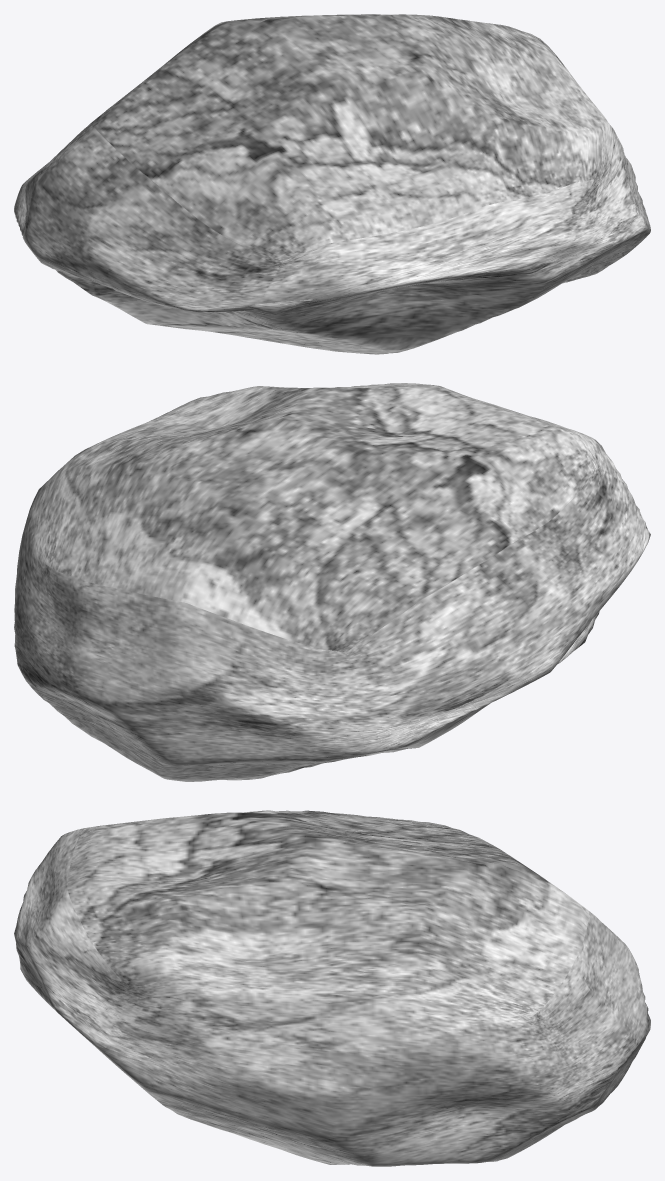
The model's file is rock_i(1) (1).fbx.
The picture shows the model from 3 angles, top to bottom: view 1: azimuth 30°, elevation 25°; view 2: azimuth 150°, elevation 25°; view 3: azimuth 270°, elevation 25°; orthographic projection. The views are drawn at different scales.
Visible parts, largest first — view 1: Cube; view 2: Cube; view 3: Cube.
Part boxes in pixels (<box>): Cube: <box>14,14,650,354</box>; Cube: <box>14,383,650,781</box>; Cube: <box>14,810,650,1166</box>.
Bounding box in the file's own units: 98.25 × 46.39 × 106.
